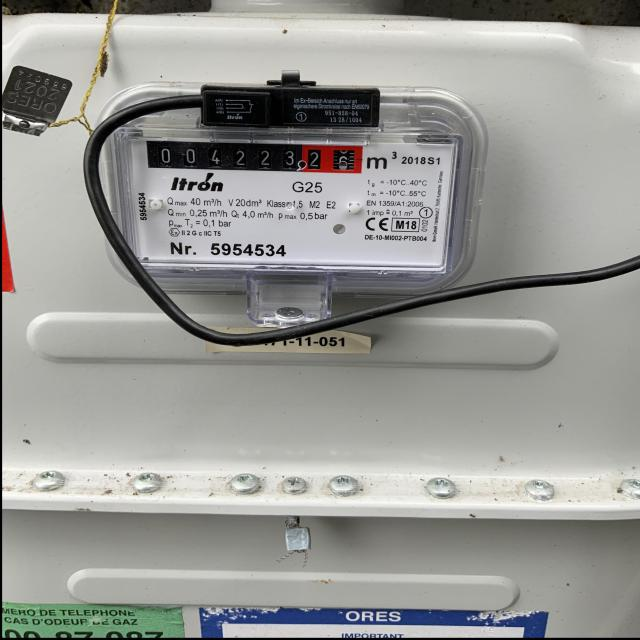gaz_meter: (117, 133, 451, 272)
indication: (143, 137, 367, 172)
